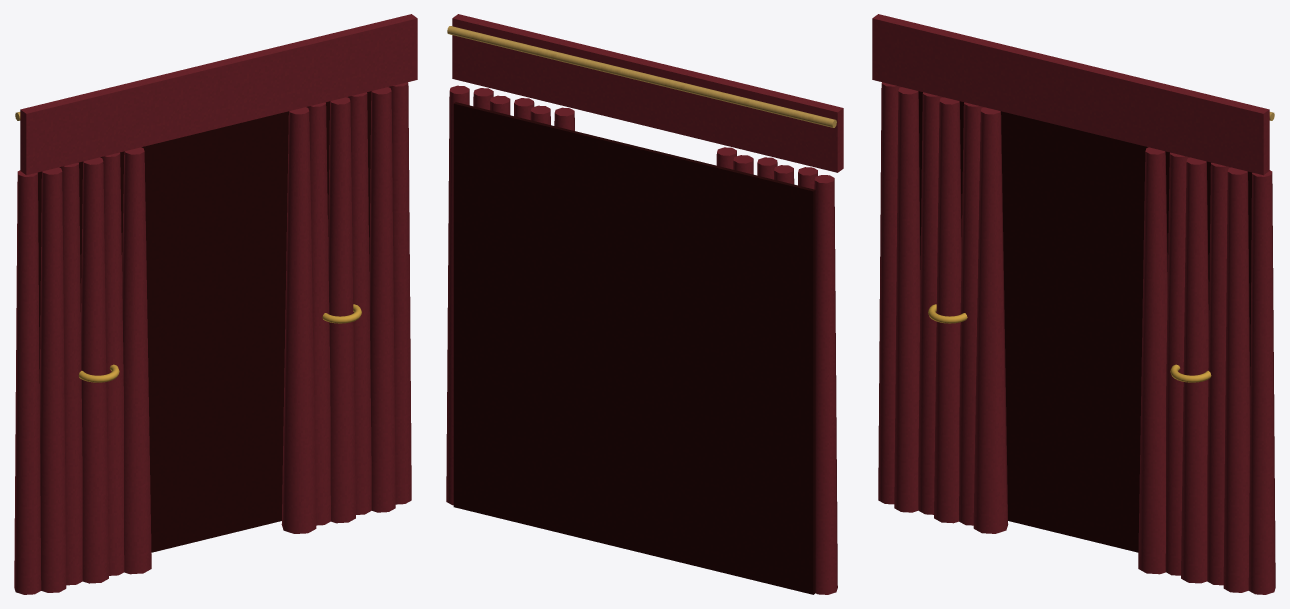
File: stageCurtain.glb
3 views of the same model, side by side, from view 1: azimuth 30°, elevation 25°; view 2: azimuth 150°, elevation 25°; view 3: azimuth 330°, elevation 25° (orthographic).
Visible parts, largest first — view 1: stageCurtain; view 2: stageCurtain; view 3: stageCurtain.
Part boxes in pixels (box(x1,y1,x2,y2)): stageCurtain: box(14, 14, 417, 594); stageCurtain: box(446, 14, 843, 594); stageCurtain: box(872, 14, 1275, 594).
Bounding box in the file's own units: 3.03 × 3.55 × 0.3401.
Materials: 4 (3 with a texture image).
